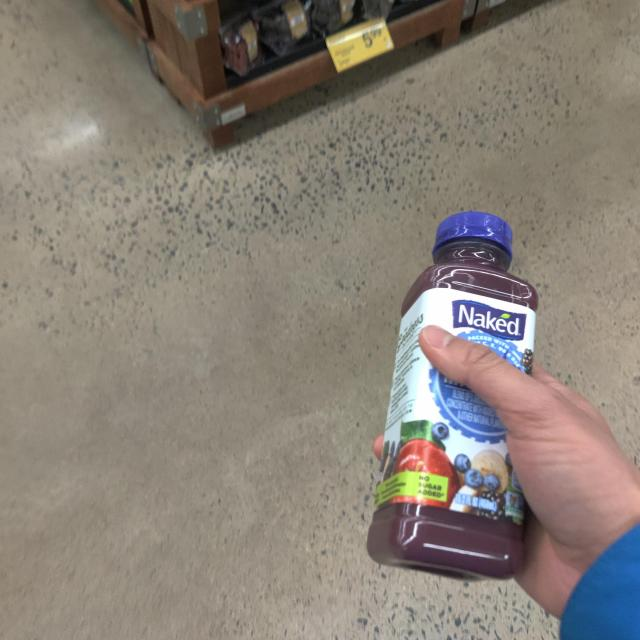Juice: (378, 200, 570, 590)
